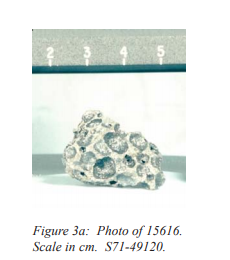Basalt: (66, 115, 168, 191)
